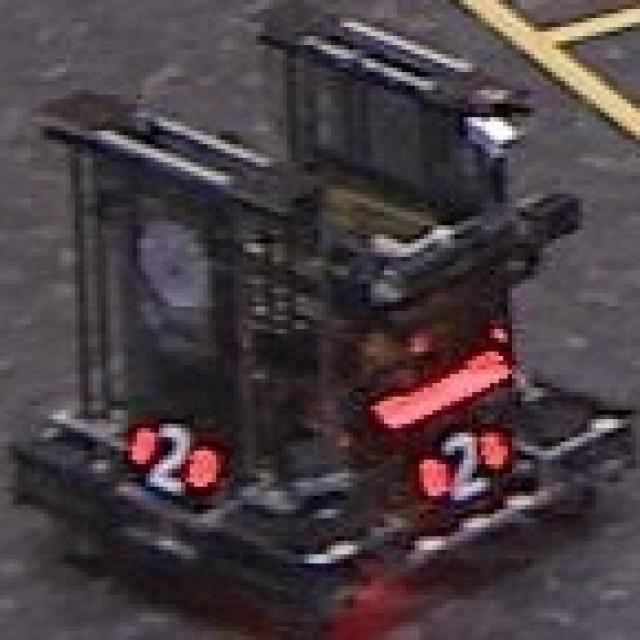R2: (128, 419, 221, 496), (419, 428, 512, 496)
